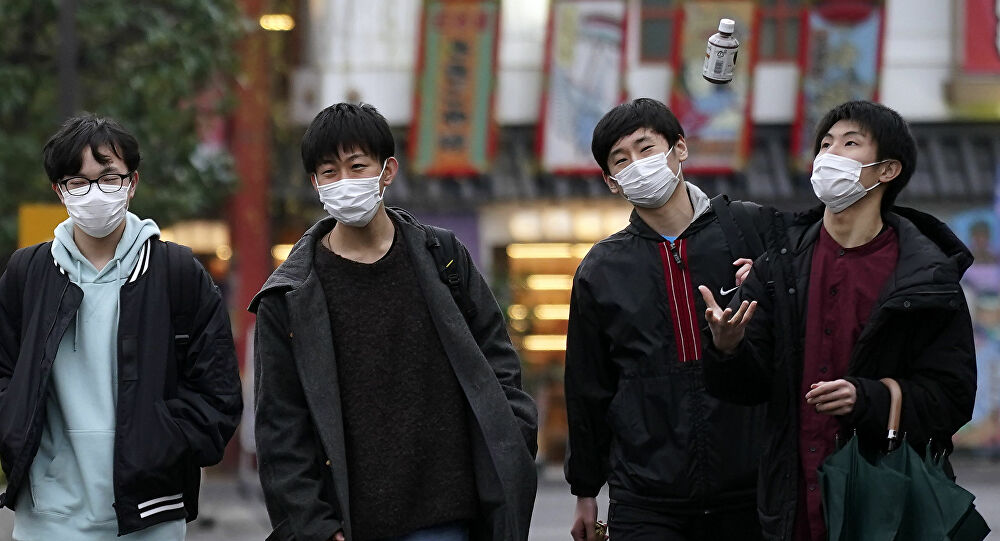with_mask: (41, 133, 147, 245), (805, 114, 909, 216), (588, 114, 690, 212), (310, 128, 406, 224)
